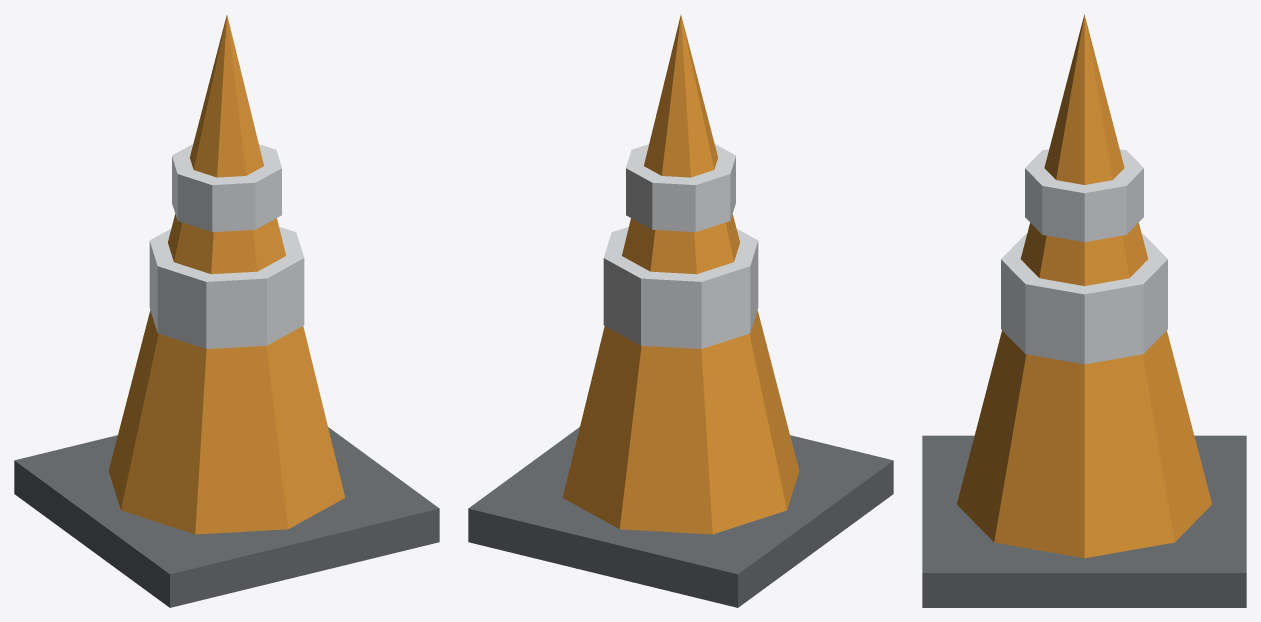
File: recycling-and-waste-transfer-yard-recycling-and-waste--c11c0835__34930.glb
3 renders of one model, left to right at view 1: azimuth 30°, elevation 25°; view 2: azimuth 150°, elevation 25°; view 3: azimuth 270°, elevation 25°, orthographic. The views are drawn at different scales.
Parts seen in each view (by area): view 1: recycling-and-waste-transfer-yard-traffic-cone; view 2: recycling-and-waste-transfer-yard-traffic-cone; view 3: recycling-and-waste-transfer-yard-traffic-cone.
Boxes of the visible parts, box(x1,y1,x2,y2) form: recycling-and-waste-transfer-yard-traffic-cone: box(14, 15, 439, 607); recycling-and-waste-transfer-yard-traffic-cone: box(468, 15, 893, 607); recycling-and-waste-transfer-yard-traffic-cone: box(922, 14, 1246, 607).
Size of the model in its own units: 0.42 by 0.75 by 0.42.
